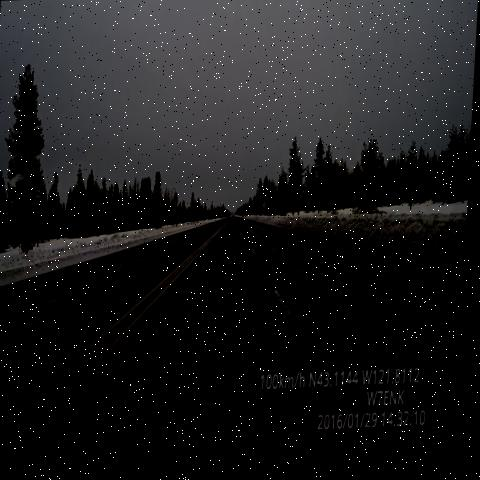pothole: (383, 282, 435, 336), (282, 236, 310, 264), (112, 251, 138, 279)
